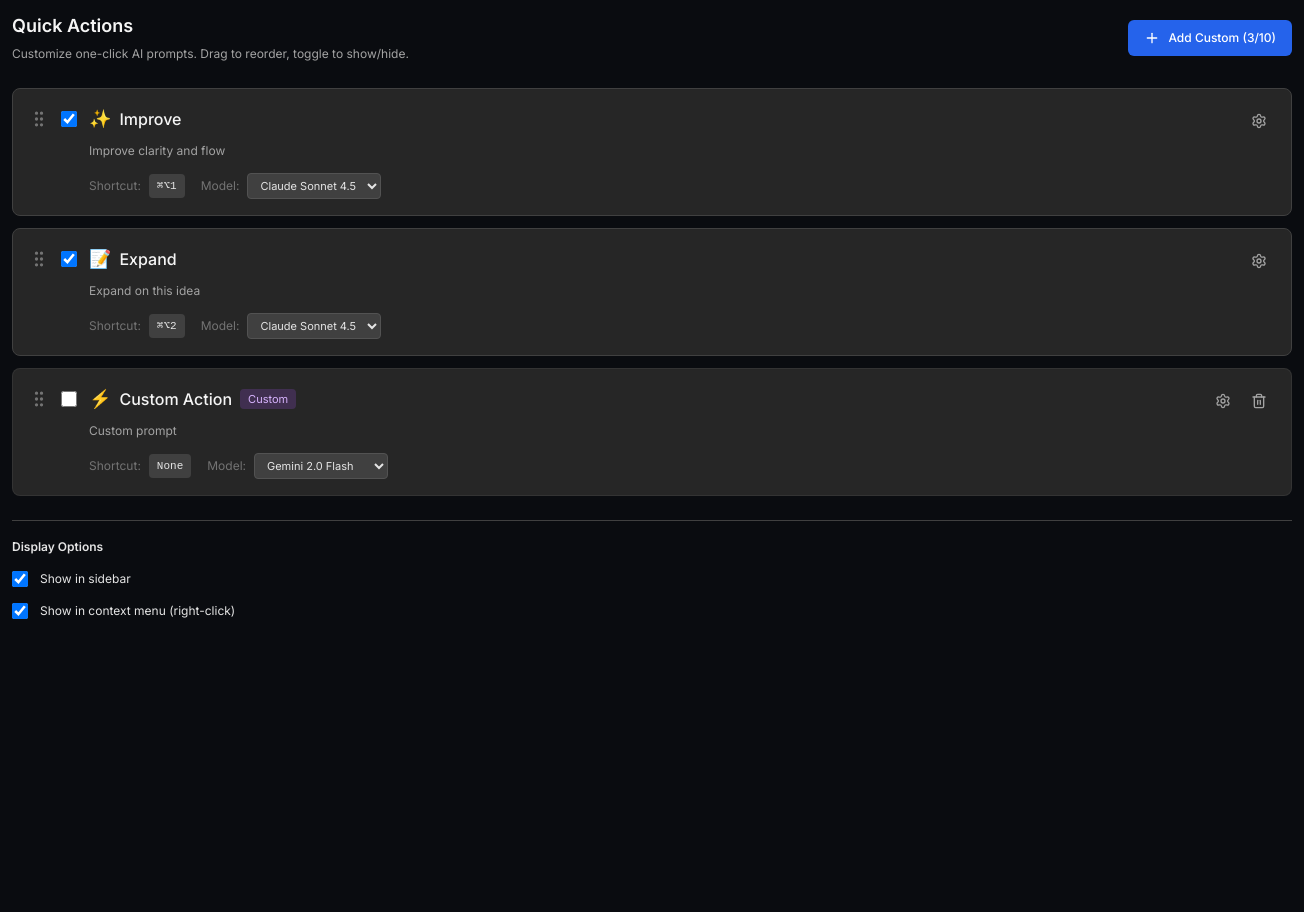
it: QuickActionsSettings › Edit Prompts › should enter edit mode when edit button clicked
The image size is (1304, 912).
Click the 1st button titled "Edit prompt" at coordinates (1259, 121), box top-left (1243, 105), bottom-right (1275, 137)
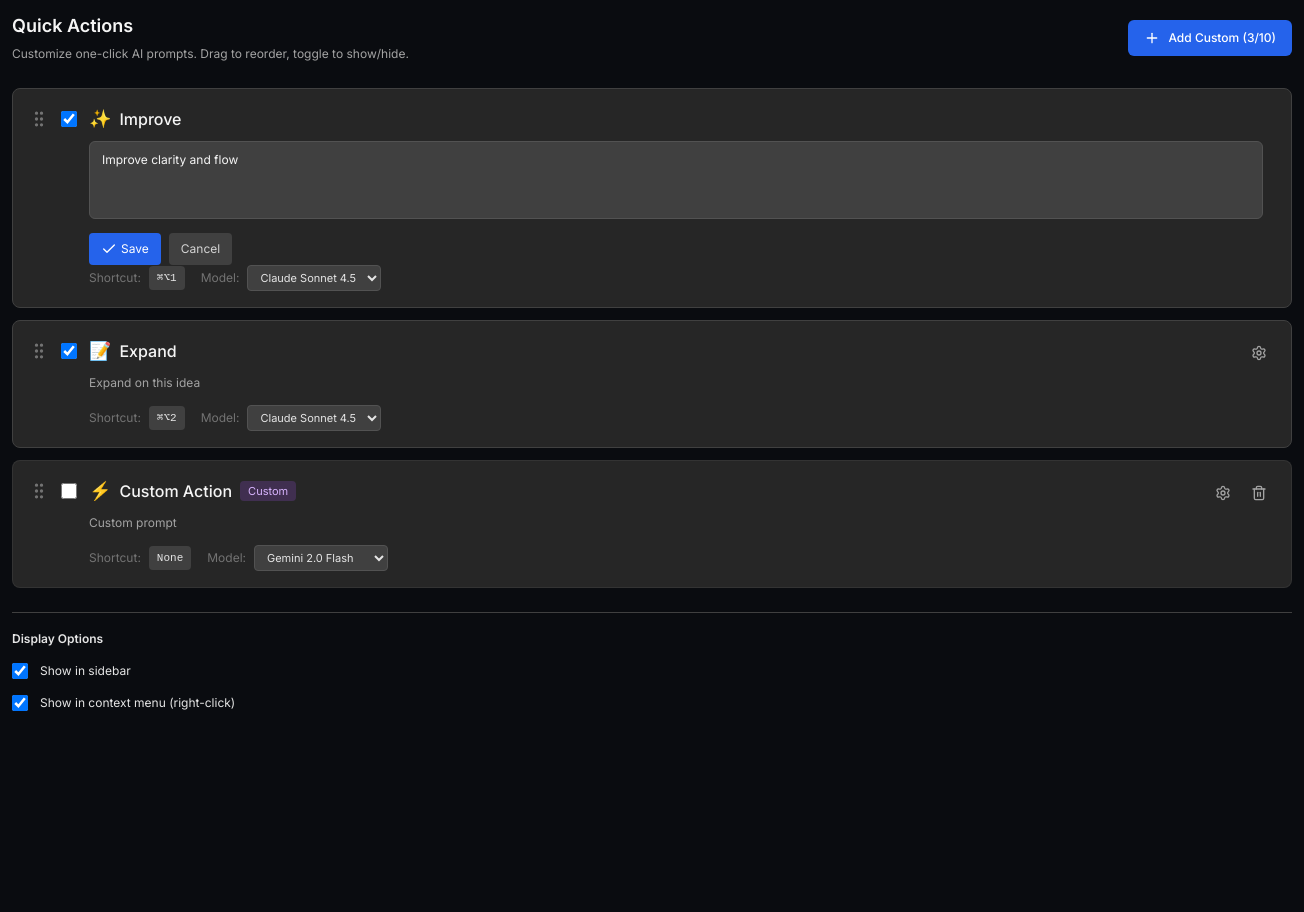
Expected: the text box is shown, top-left (89, 141), bottom-right (1263, 219)
Expected: the button "Save" is shown, top-left (89, 233), bottom-right (161, 265)
Expected: the button "Cancel" is shown, top-left (169, 233), bottom-right (232, 265)
